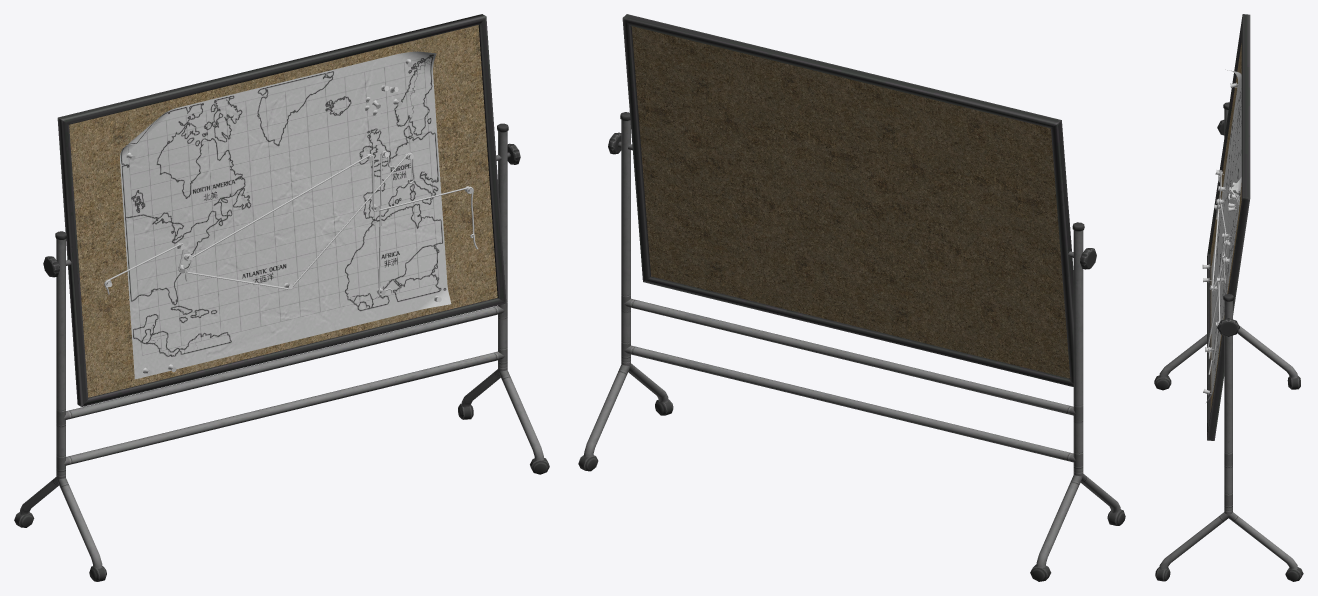
Rendered from 01_02_station_map_status_board.dae.
The picture shows the model from 3 angles, left to right: view 1: azimuth 30°, elevation 25°; view 2: azimuth 150°, elevation 25°; view 3: azimuth 270°, elevation 25°; orthographic projection. The views are drawn at different scales.
Visible parts, largest first — view 1: map, cork__2_, low, thumbtack; view 2: cork__2_, low; view 3: low, map, thumbtack, cork__2_.
Part boxes in pixels (x1,y1,x2,y2): map: (120,51,451,379); cork__2_: (69,25,497,397); low: (14,14,549,581); thumbtack: (104,59,478,375); cork__2_: (631,26,1070,378); low: (578,14,1125,581); low: (1154,14,1303,581); map: (1206,69,1241,402); thumbtack: (1202,82,1237,394); cork__2_: (1210,43,1241,411).
Bounding box in the file's own units: 2.97 × 2.58 × 0.9236.
